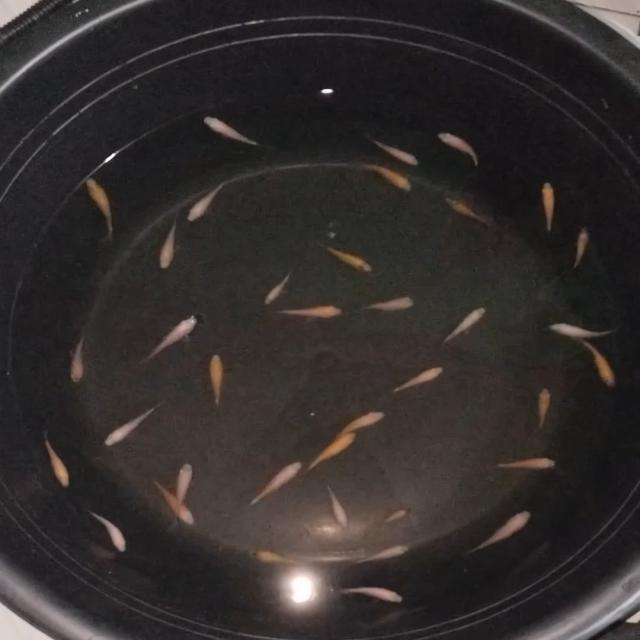nila: (234, 458, 304, 515), (457, 508, 535, 558), (141, 308, 200, 368), (140, 470, 198, 530), (100, 398, 163, 452), (439, 189, 501, 236), (344, 158, 416, 194), (574, 336, 622, 390), (380, 362, 450, 399), (304, 430, 361, 474), (84, 174, 118, 246), (436, 302, 489, 348), (203, 113, 268, 150), (315, 238, 375, 277), (254, 260, 300, 310), (330, 579, 404, 609), (185, 174, 229, 224), (330, 406, 390, 441), (367, 132, 422, 170), (349, 540, 416, 571), (436, 130, 482, 174), (365, 502, 418, 540), (42, 432, 74, 493), (170, 456, 193, 540), (545, 318, 625, 342), (89, 508, 128, 557), (274, 298, 346, 324), (204, 348, 230, 416), (356, 291, 420, 318), (243, 546, 309, 572), (66, 324, 92, 387), (156, 208, 180, 272), (486, 456, 561, 476), (320, 484, 352, 530), (537, 180, 559, 246), (566, 223, 592, 275), (536, 382, 556, 436)
